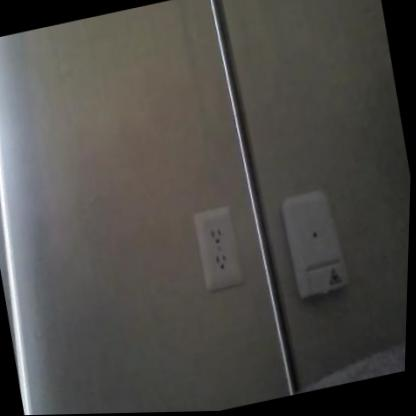OUTLET: (191, 202, 247, 293)
